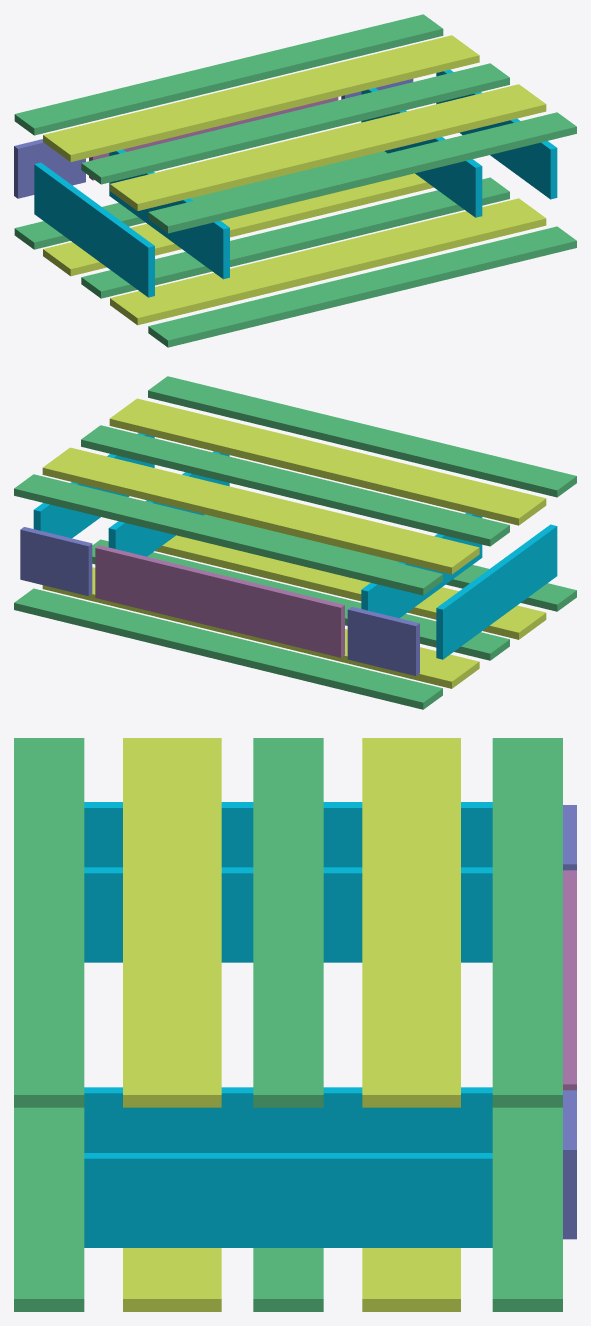
The model's file is exploded.glb.
3 renders of one model, top to bottom at view 1: azimuth 30°, elevation 25°; view 2: azimuth 150°, elevation 25°; view 3: azimuth 270°, elevation 25°, orthographic. The views are drawn at different scales.
Parts seen in each view (by area): view 1: node_id36, node_id34, node_id10, node_id28, node_id8, node_id32, node_id30, node_id6, node_id20, node_id12, node_id24, node_id14 (+4 smaller); view 2: node_id36, node_id34, node_id18, node_id30, node_id32, node_id4, node_id28, node_id20, node_id10, node_id16, node_id22, node_id12 (+5 smaller); view 3: node_id14, node_id36, node_id34, node_id32, node_id28, node_id30, node_id26, node_id8, node_id4, node_id24, node_id20, node_id10 (+5 smaller).
Part boxes in pixels (x1,y1,x2,y2): node_id36: [43, 35, 479, 162]; node_id34: [110, 84, 546, 210]; node_id10: [110, 198, 546, 325]; node_id28: [14, 14, 443, 135]; node_id8: [148, 226, 576, 347]; node_id32: [148, 112, 576, 233]; node_id30: [81, 63, 509, 184]; node_id6: [81, 177, 509, 298]; node_id20: [34, 162, 154, 297]; node_id12: [43, 173, 433, 276]; node_id24: [109, 149, 229, 279]; node_id14: [436, 69, 557, 199]; node_id36: [42, 447, 479, 574]; node_id34: [109, 398, 546, 525]; node_id18: [95, 545, 344, 657]; node_id30: [81, 425, 509, 546]; node_id32: [148, 376, 576, 497]; node_id4: [14, 588, 442, 709]; node_id28: [14, 474, 442, 595]; node_id20: [436, 524, 557, 659]; node_id10: [155, 535, 546, 639]; node_id16: [20, 527, 92, 596]; node_id22: [347, 607, 419, 675]; node_id12: [42, 567, 479, 688]; node_id14: [84, 1153, 492, 1247]; node_id36: [362, 738, 460, 1107]; node_id34: [123, 738, 221, 1107]; node_id32: [14, 738, 84, 1107]; node_id28: [492, 738, 562, 1107]; node_id30: [253, 738, 323, 1107]; node_id26: [84, 1087, 492, 1152]; node_id8: [14, 1107, 84, 1311]; node_id4: [492, 1107, 562, 1311]; node_id24: [84, 867, 492, 962]; node_id20: [84, 802, 492, 867]; node_id10: [123, 1248, 221, 1311].
Size of the model in its own units: 0.512 by 0.1451 by 0.3413.
